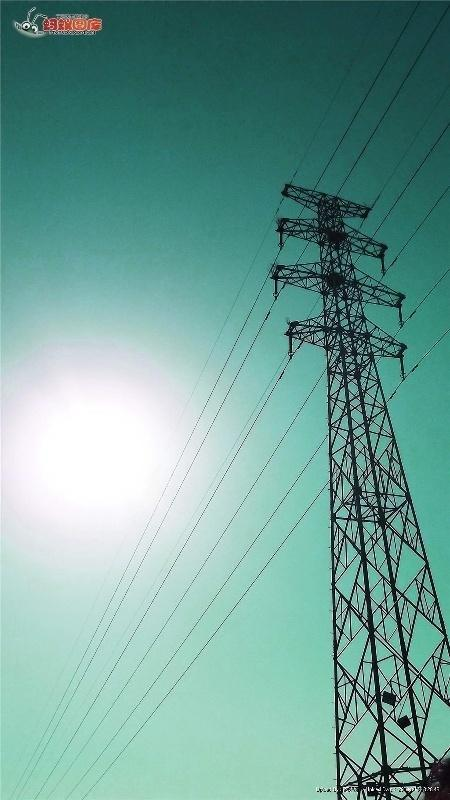power_tower: (269, 174, 449, 800)
